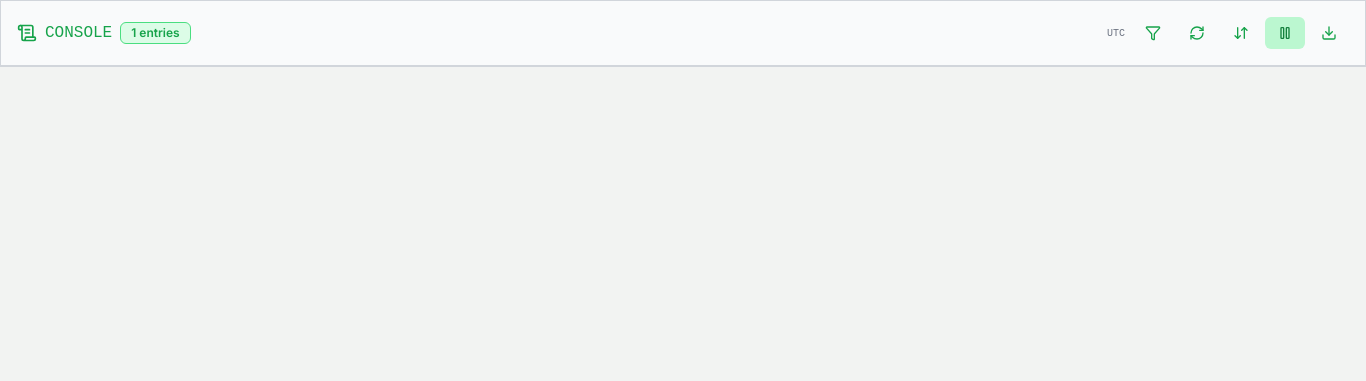
Test: ConsoleInterface › search functionality › shows no matches message when search has no results
Open filter panel
Click the 1st button.
click(1153, 33)  # box [1133,17,1173,49]
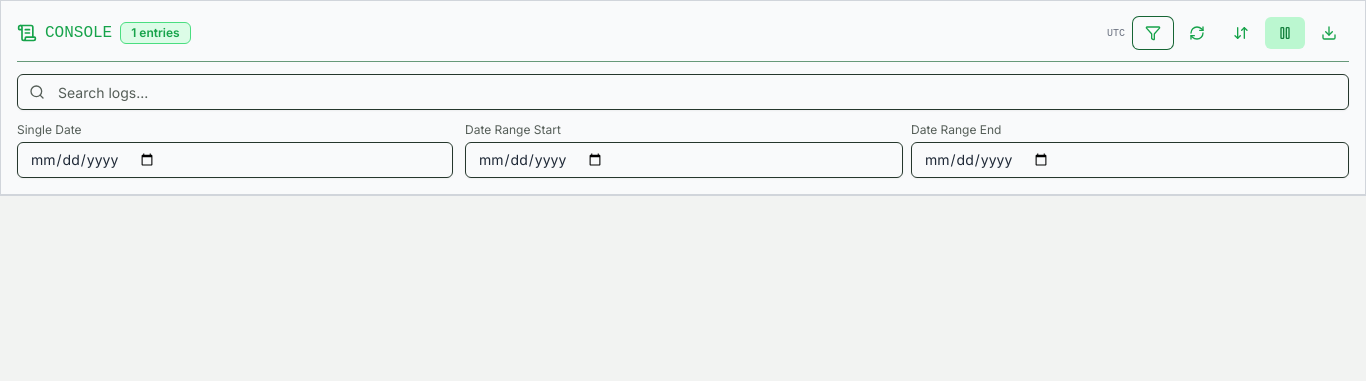
Search for something that doesn't exist
Type "nonexistent" into the field with placeholder "Search logs...".
click(683, 92); type("nonexistent")  # box [17,74,1349,110]
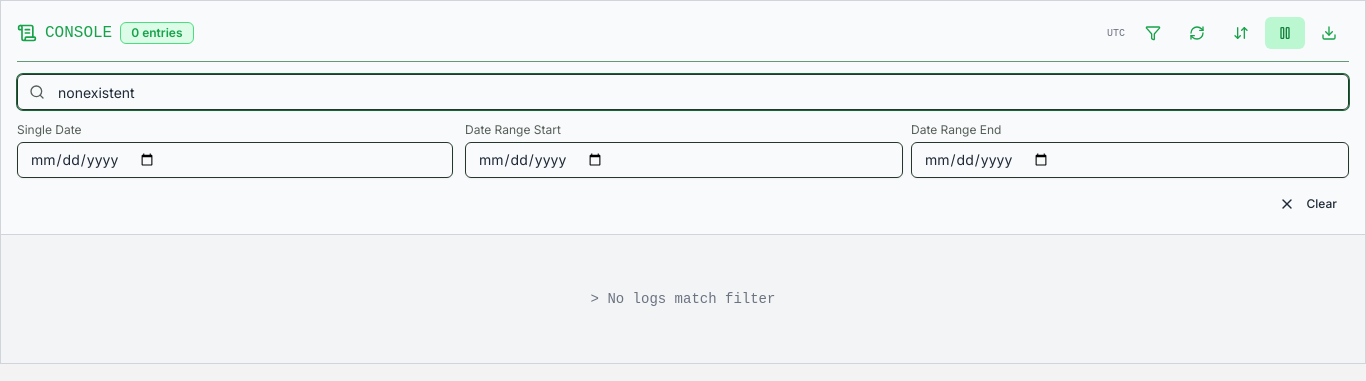
Check: the text "> No logs match filter" is shown, box [591,291,775,307]
